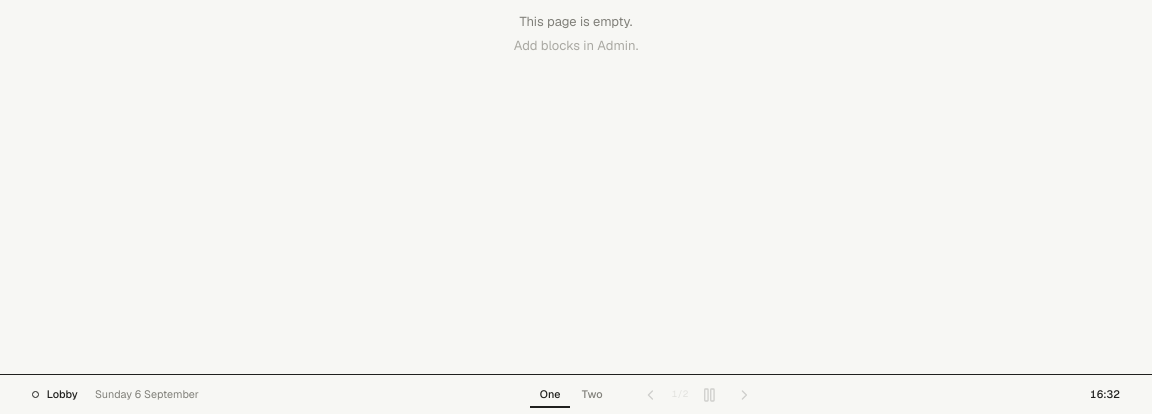
Scenario: rotation state survives polling › stays paused when an unrelated part of the configuration changes
The image size is (1152, 414).
Click the button named "pause rotation" at (710, 394), box [693, 378, 726, 411]
Wait 31000 ms
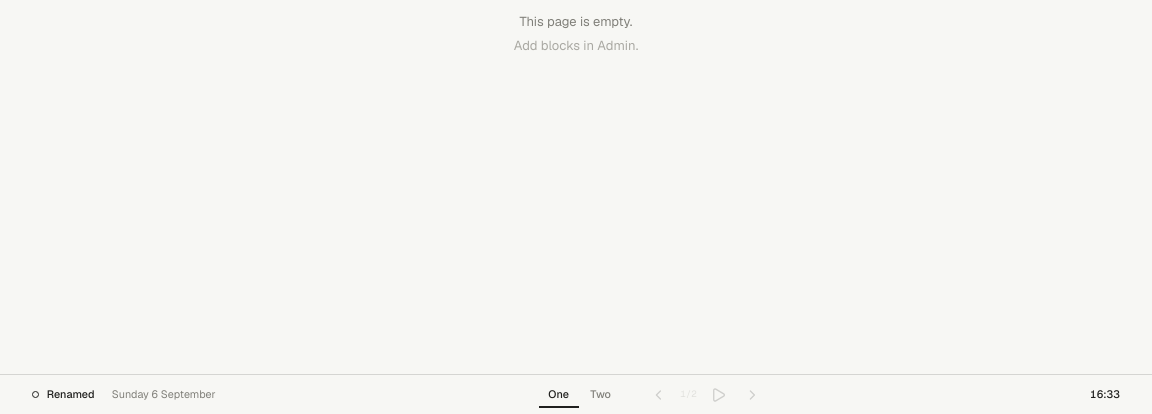
Check: the text "Renamed" is shown, box [32, 383, 95, 406]
Check: the button named "resume rotation" is shown, box [701, 378, 735, 411]
